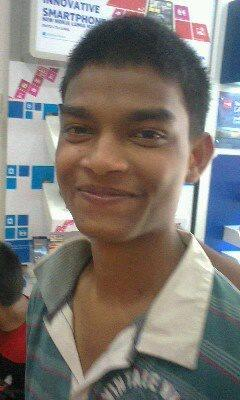No Mask: (37, 4, 233, 391)
